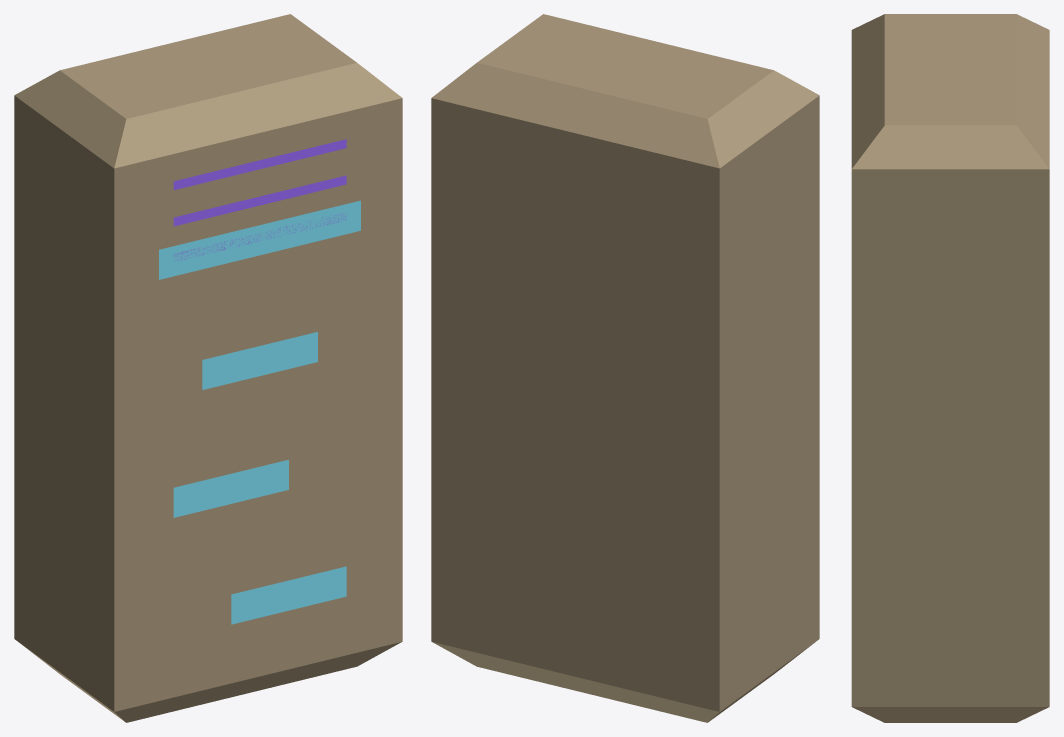
File: lore_stone.fbx
3 views of the same model, side by side, from view 1: azimuth 30°, elevation 25°; view 2: azimuth 150°, elevation 25°; view 3: azimuth 270°, elevation 25° (orthographic).
Parts seen in each view (by area): view 1: lore_stone; view 2: lore_stone; view 3: lore_stone.
Part boxes in pixels (x1,y1,x2,y2): lore_stone: (14, 14, 402, 722); lore_stone: (431, 14, 819, 722); lore_stone: (851, 14, 1049, 722).
Bounding box in the file's own units: 1 × 2 × 0.61.
